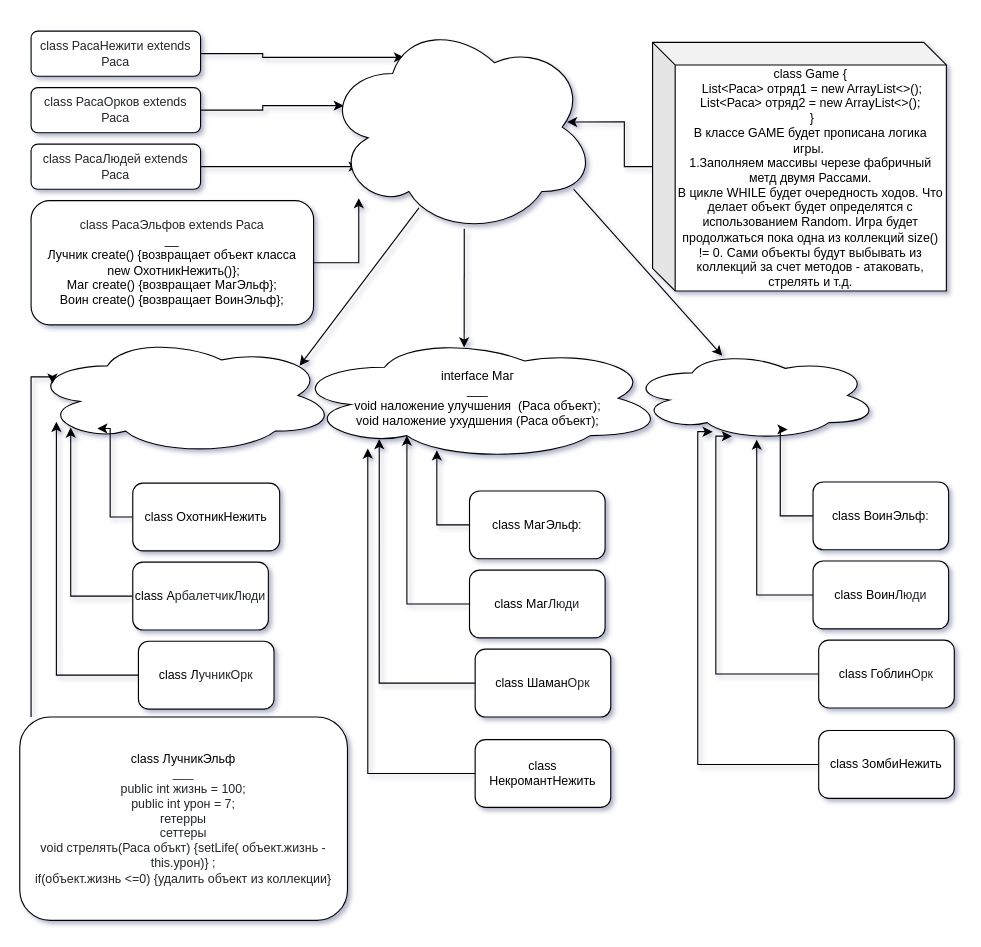
Image size: 981x947. Some labels were removed from this diagram. The centre of each missing label's shape, as x and y in pixels:
"abstract class Раса ___ Лучник create(); Маг create(); Воин create();" goes at (x=460, y=126).
"interface Воин _____ void атаковать (Раса объект);" goes at (x=754, y=395).
"interface Лучник _____ void стрелять (Раса объект); void атаковать(Раса объект);" goes at (x=183, y=395).
